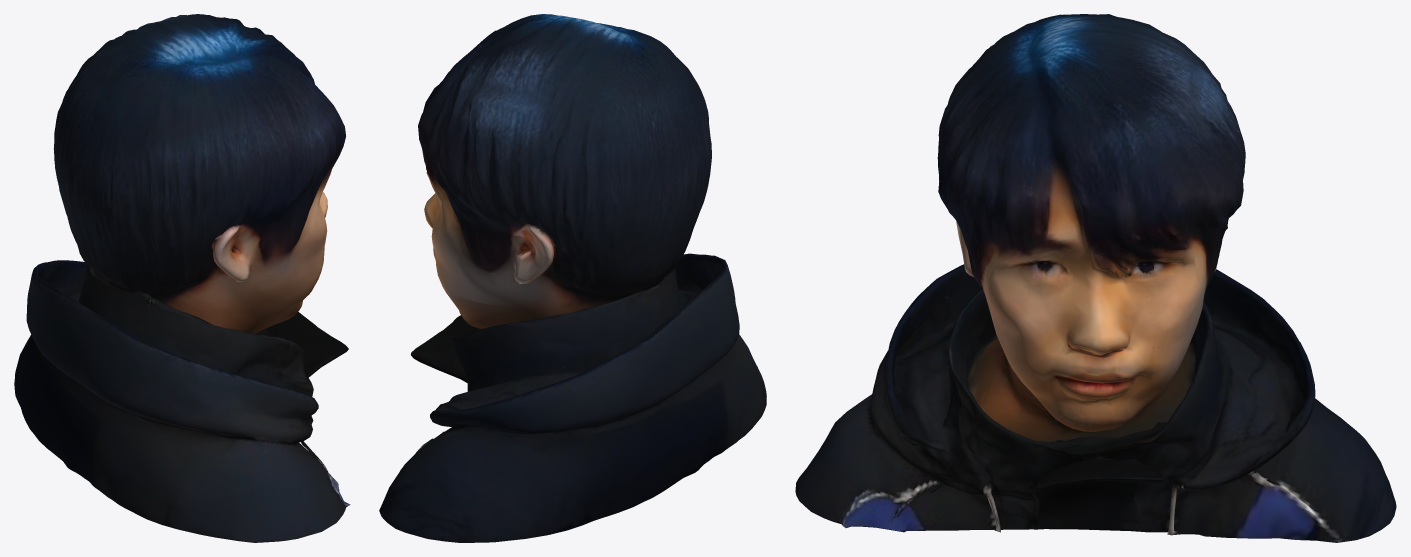
File: murase_statue_bust_15k_standard.glb
3 views of the same model, side by side, from view 1: azimuth 30°, elevation 25°; view 2: azimuth 150°, elevation 25°; view 3: azimuth 270°, elevation 25° (orthographic). The views are drawn at different scales.
Visible parts, largest first — view 1: tripo_node_d85acc00-a2f5-452f-b812-3aa8186cd535; view 2: tripo_node_d85acc00-a2f5-452f-b812-3aa8186cd535; view 3: tripo_node_d85acc00-a2f5-452f-b812-3aa8186cd535.
Part boxes in pixels (box(x1,y1,x2,y2)): tripo_node_d85acc00-a2f5-452f-b812-3aa8186cd535: box(14, 14, 350, 542); tripo_node_d85acc00-a2f5-452f-b812-3aa8186cd535: box(379, 14, 766, 542); tripo_node_d85acc00-a2f5-452f-b812-3aa8186cd535: box(795, 14, 1396, 542).
Size of the model in its own units: 0.5844 by 0.8635 by 1.
Materials: 1 (1 with a texture image).
